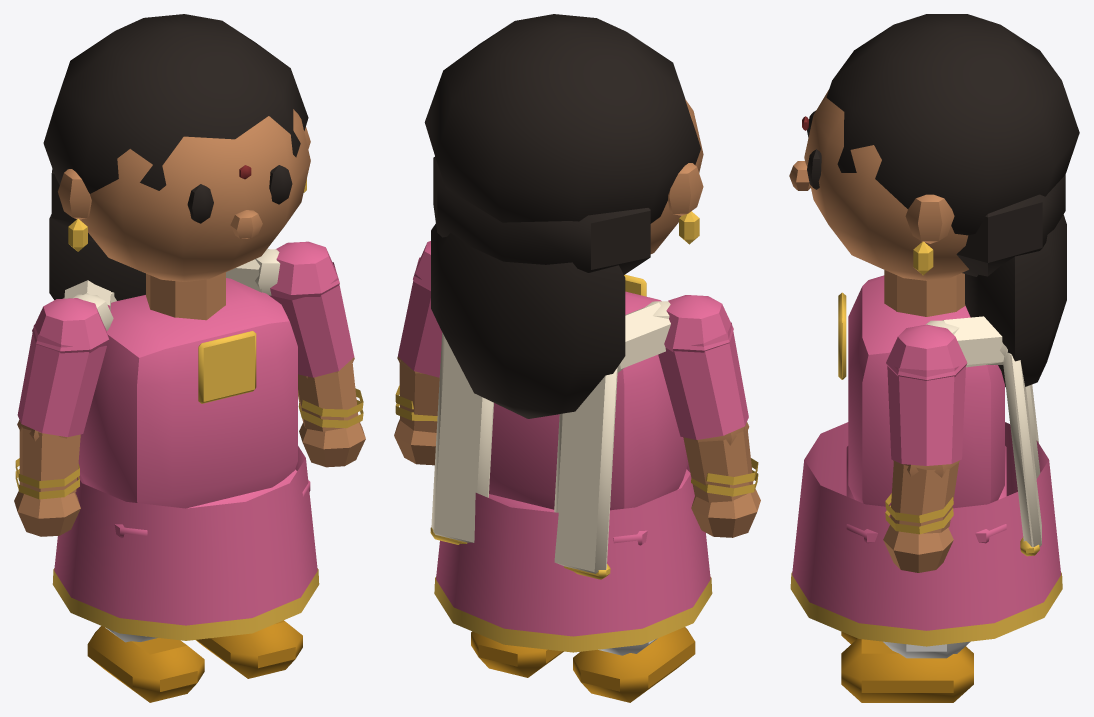
Rendered from story_simran.glb.
3 views of the same model, side by side, from view 1: azimuth 30°, elevation 25°; view 2: azimuth 150°, elevation 25°; view 3: azimuth 270°, elevation 25° (orthographic). The views are drawn at different scales.
Visible parts, largest first — view 1: body, head, arm_r, arm_l, leg_r, leg_l; view 2: head, body, arm_r, arm_l, leg_r, leg_l; view 3: head, body, arm_l, leg_l.
Boxes of the visible parts, x1,y1,x2,y2 form: body: (52,248,319,640); head: (43,14,310,300); arm_r: (14,298,108,536); arm_l: (269,241,365,467); leg_r: (87,626,204,702); leg_l: (196,620,302,678); head: (424,14,703,418); body: (430,274,712,652); arm_r: (658,295,760,537); arm_l: (394,241,442,465); leg_r: (573,627,695,702); leg_l: (471,631,563,677); head: (789,14,1079,387); body: (790,270,1062,646); arm_l: (883,324,967,572); leg_l: (841,638,973,702).
Size of the model in its own units: 0.5681 by 0.988 by 0.4056.
1 material, 1 textured.
